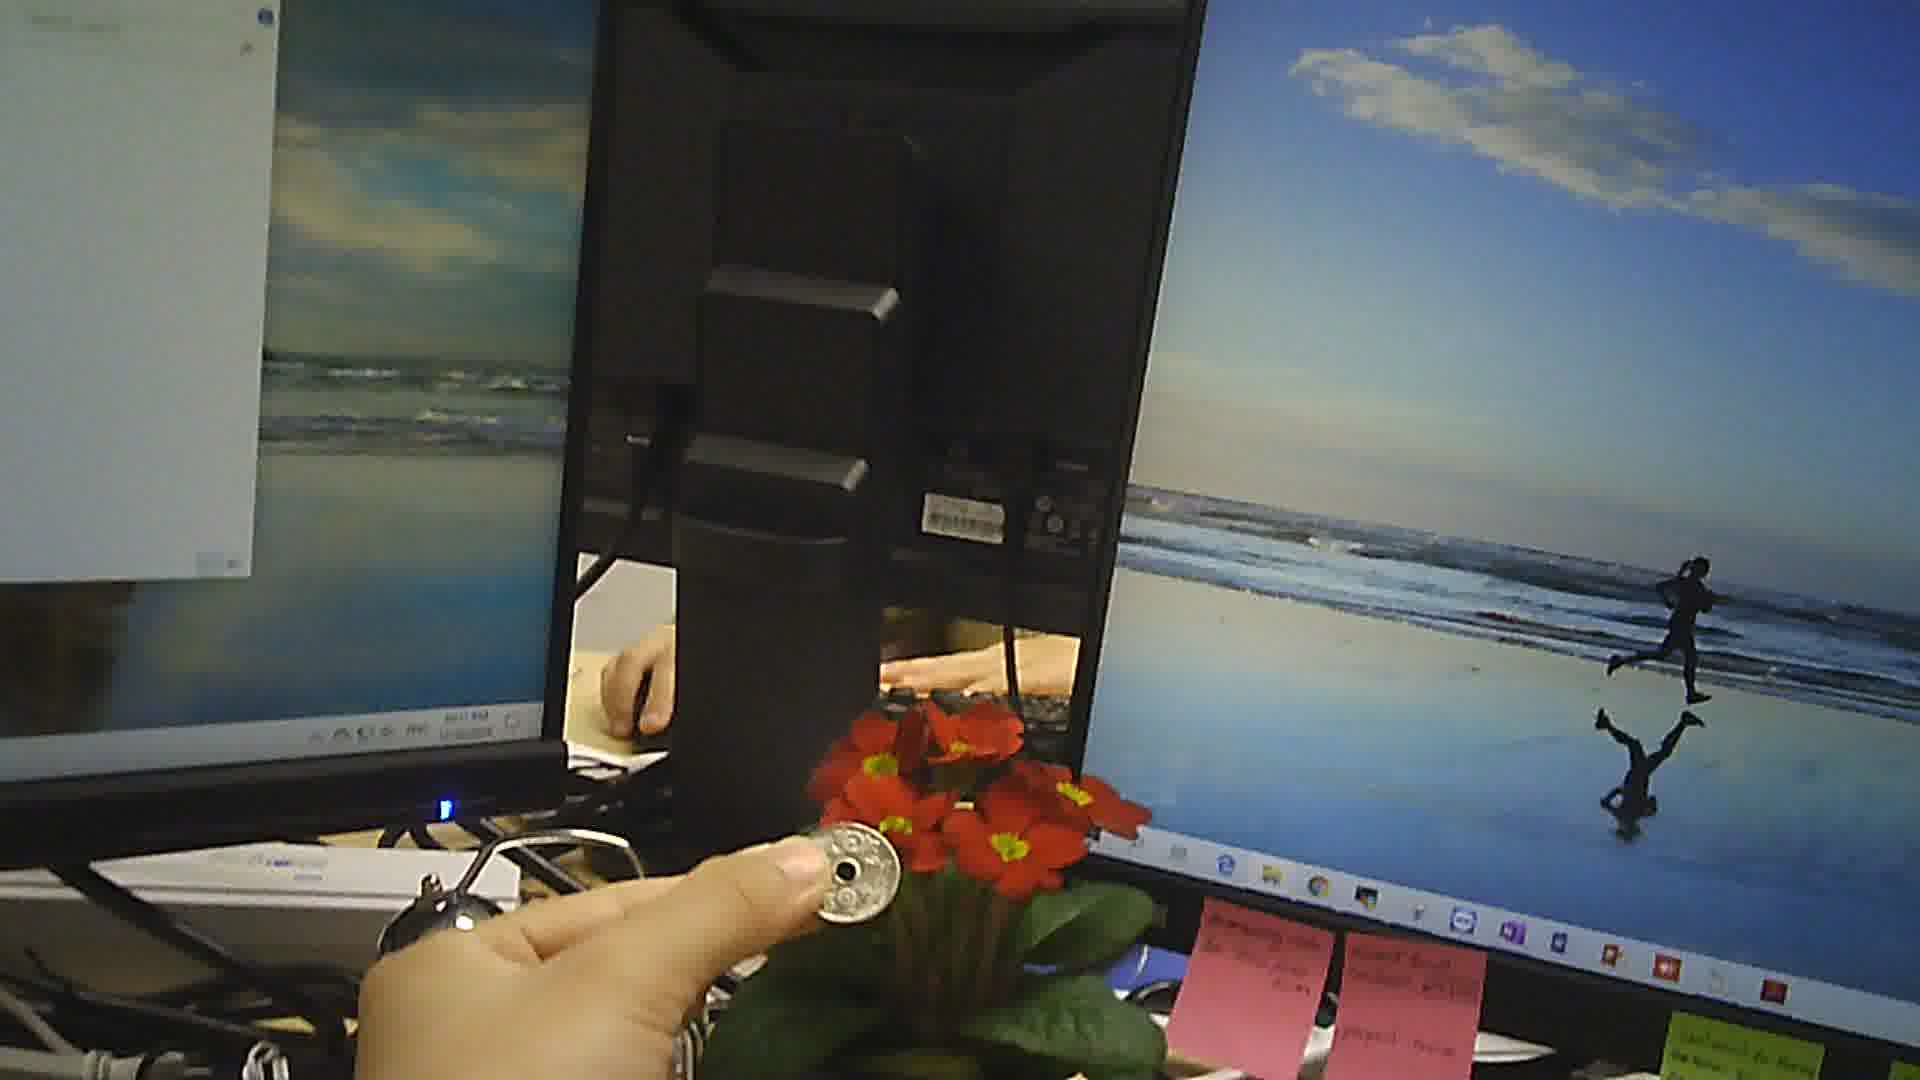50 Yen: (793, 814, 914, 928)
